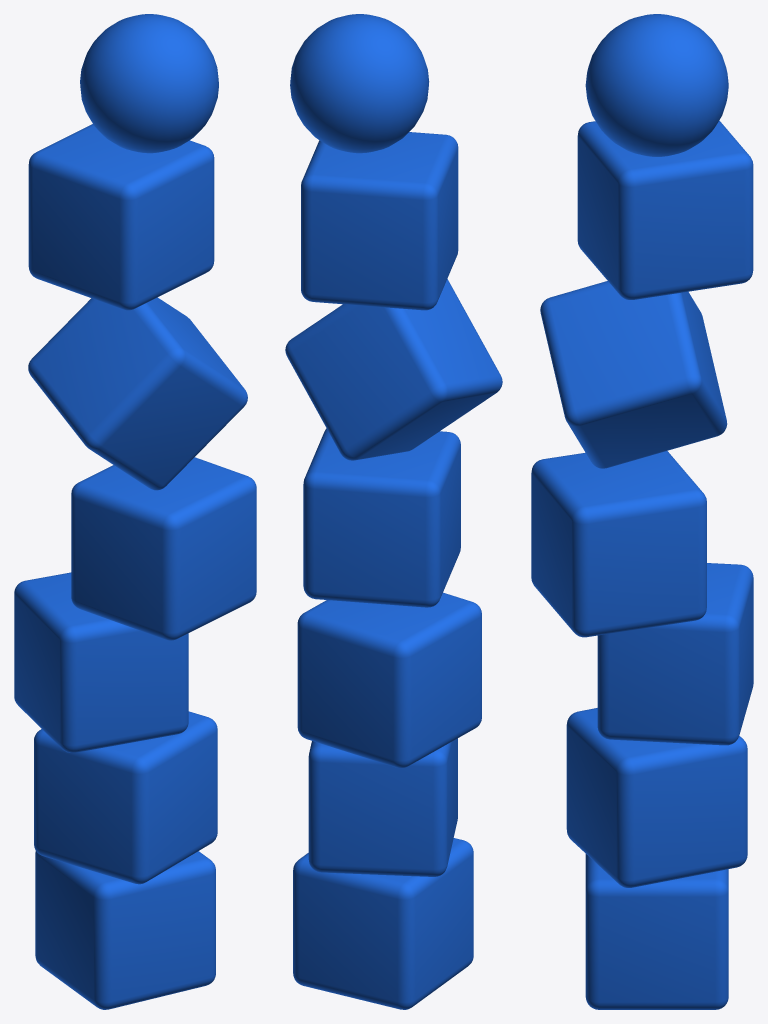
Rendered from holo.ea4cd7b8.gltf.
3 views of the same model, side by side, from view 1: azimuth 30°, elevation 25°; view 2: azimuth 150°, elevation 25°; view 3: azimuth 270°, elevation 25° (orthographic). The views are drawn at different scales.
Visible parts, largest first — view 1: Cube.005, Cube.003, Cube.004, Cube.001, Cube, Cube.002, Sphere; view 2: Cube.002, Cube.005, Cube.004, Cube.003, Cube, Cube.001, Sphere; view 3: Cube.003, Cube.004, Cube.005, Cube.001, Cube.002, Cube, Sphere.
Boxes of the visible parts, <box> form: Cube.005: <box>28,124,214,310</box>; Cube.003: <box>71,457,256,640</box>; Cube.004: <box>28,297,247,490</box>; Cube.001: <box>34,711,217,884</box>; Cube: <box>35,850,215,1009</box>; Cube.002: <box>14,572,188,752</box>; Sphere: <box>80,14,218,153</box>; Cube.002: <box>297,592,481,768</box>; Cube.005: <box>301,132,458,310</box>; Cube.004: <box>285,279,502,460</box>; Cube.003: <box>303,428,460,607</box>; Cube: <box>293,838,473,1009</box>; Cube.001: <box>308,738,457,876</box>; Sphere: <box>290,14,429,153</box>; Cube.003: <box>531,451,706,637</box>; Cube.004: <box>540,281,727,468</box>; Cube.005: <box>577,120,753,299</box>; Cube.001: <box>566,708,747,887</box>; Cube.002: <box>597,563,753,745</box>; Cube: <box>585,854,728,1009</box>; Sphere: <box>585,14,728,156</box>.
Bounding box in the file's own units: 2.9 × 15.03 × 3.1.
